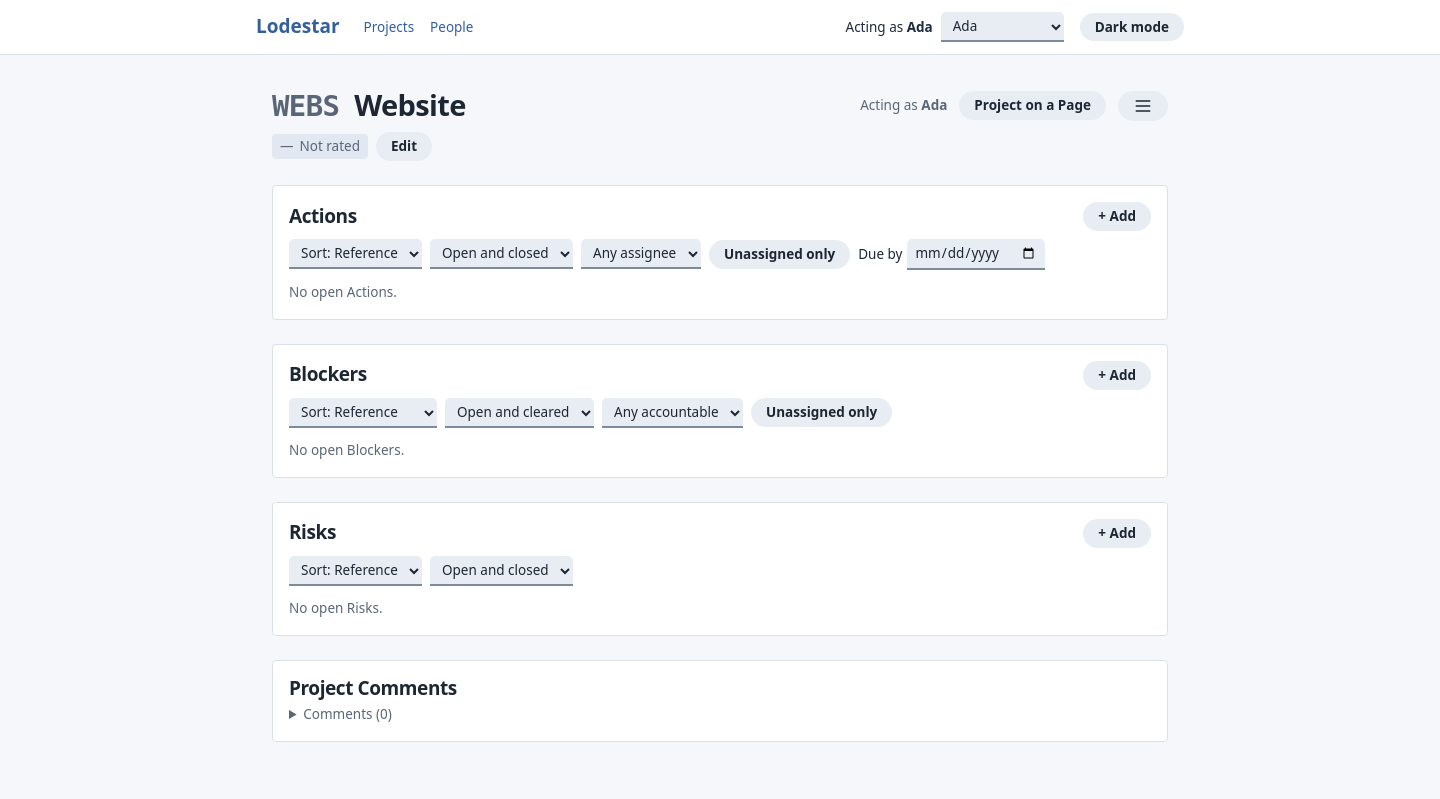
Test: Risks panel › adds a Risk
Click the button with aria-label "Add Risk".
click(1117, 533)  # box [1083,519,1151,548]
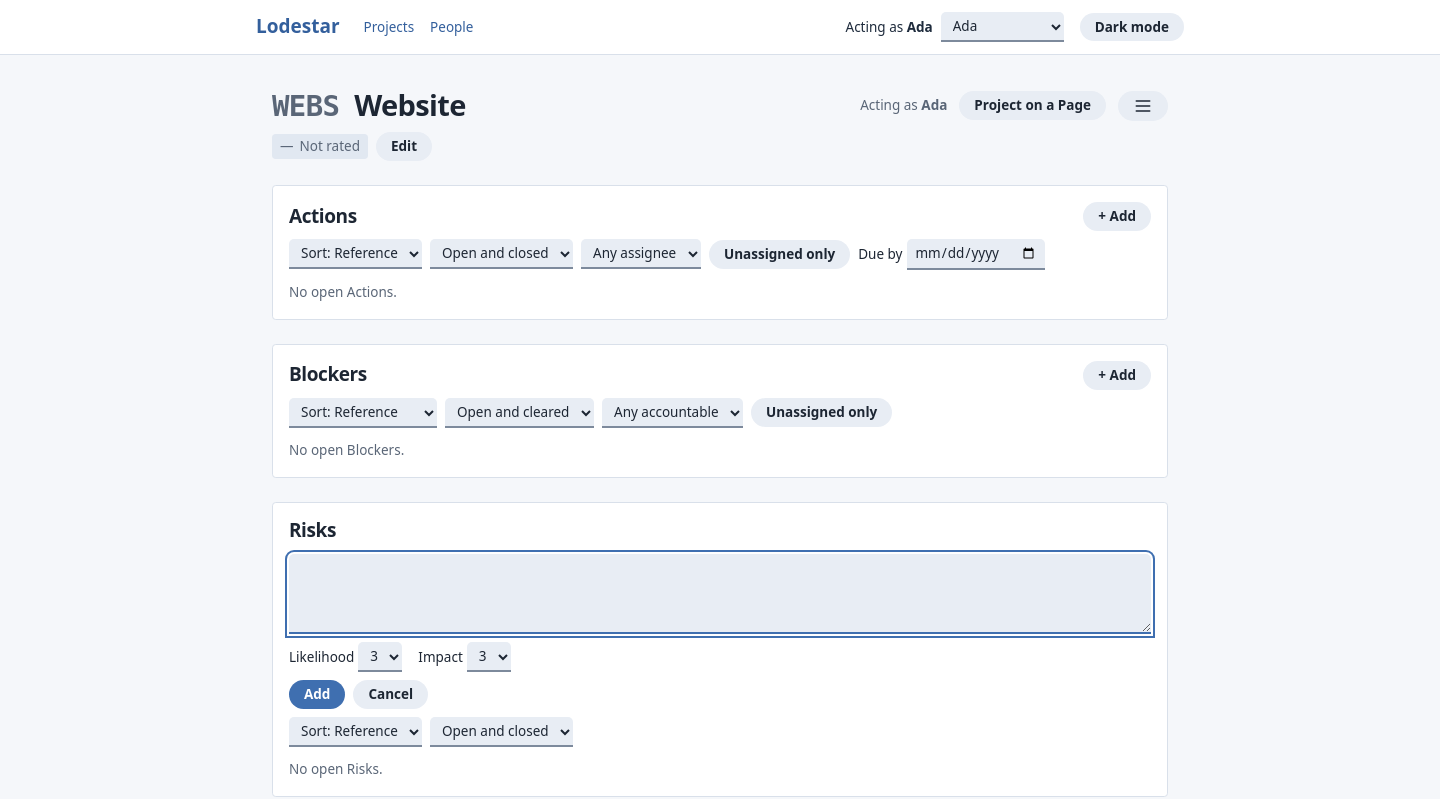
Type "Budget cut" into the text box named "Description".
click(720, 594); type("Budget cut")  # box [289,554,1151,634]
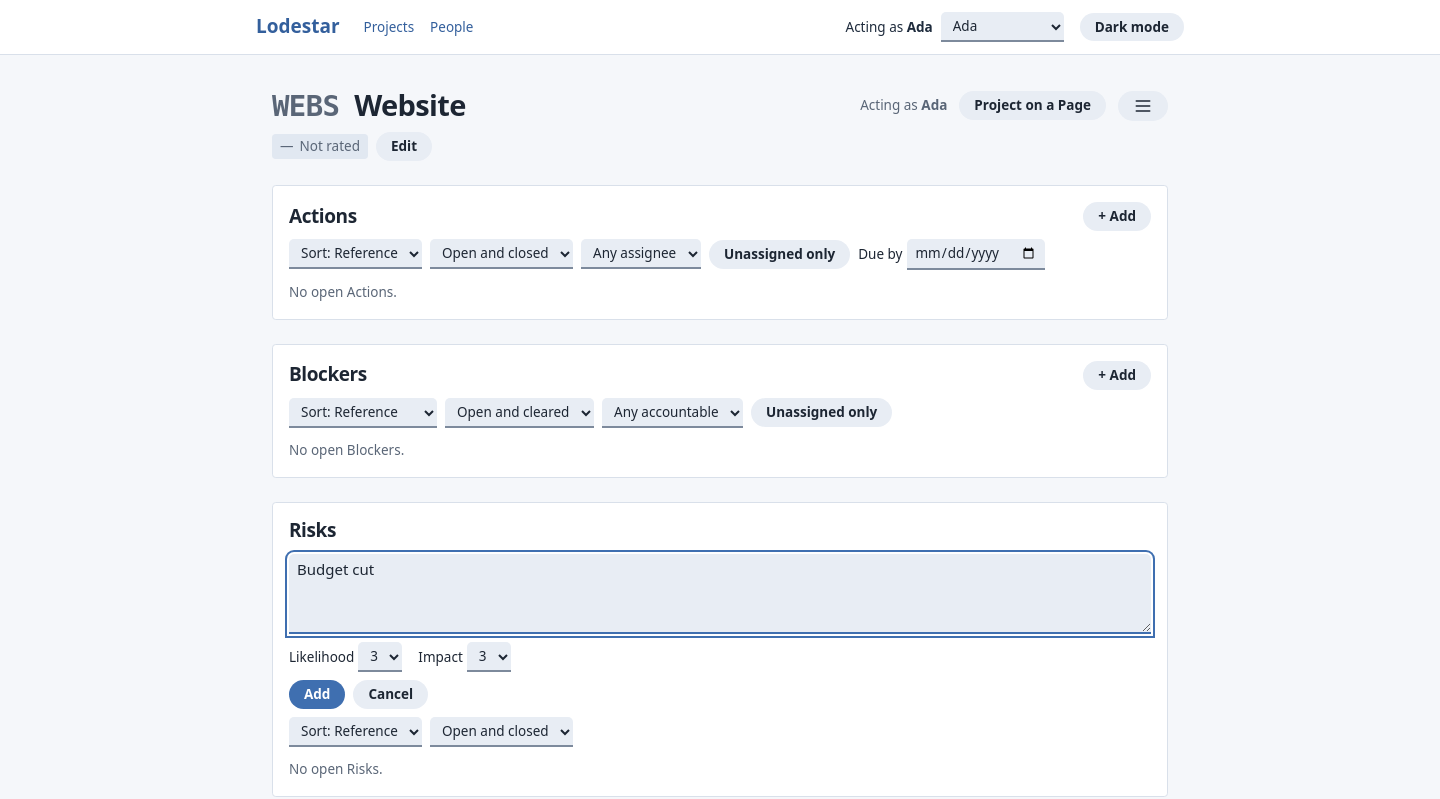
Select "4" in the dropdown labelled "Likelihood" at (380, 657), box [358,642,402,672]
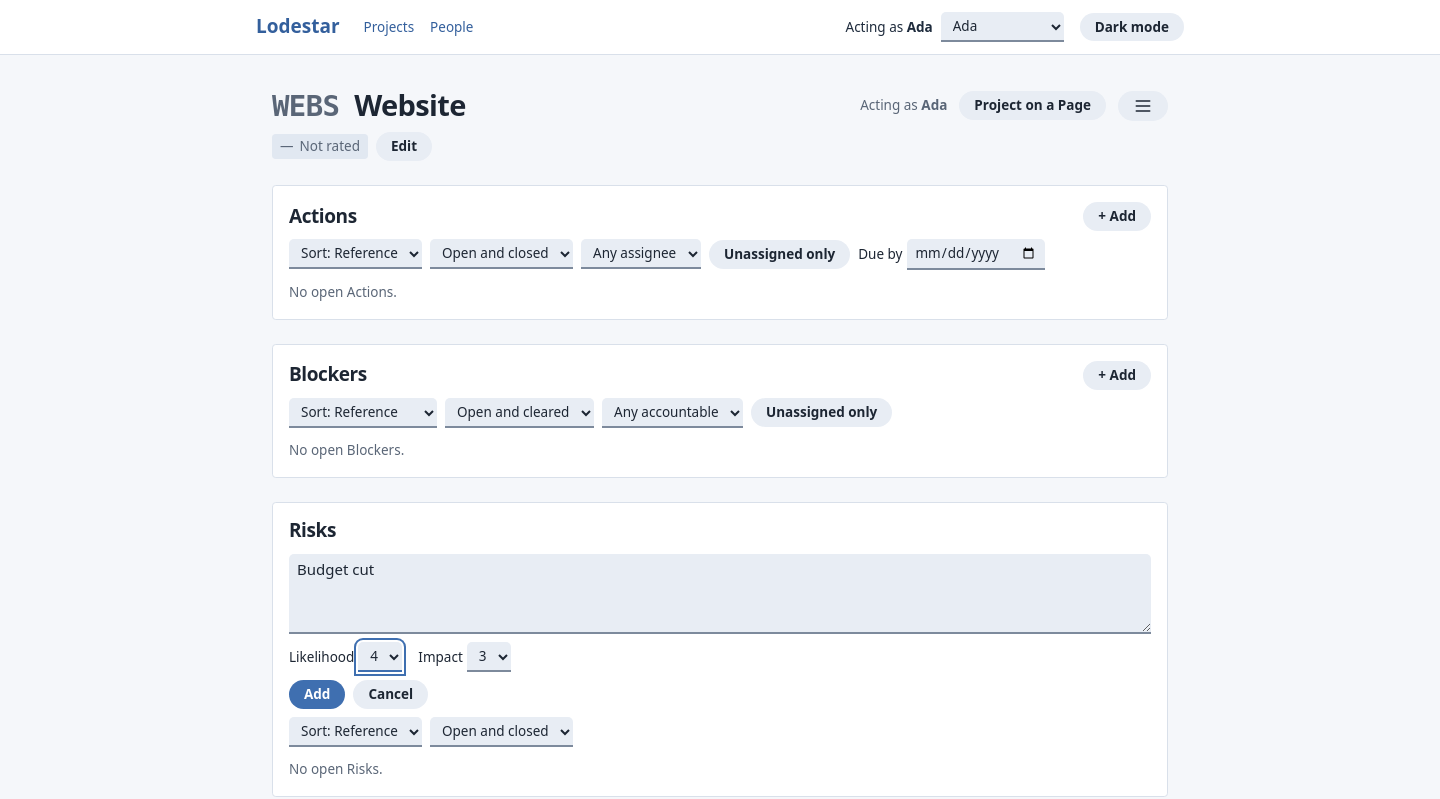
Select "5" in the dropdown labelled "Impact" at (489, 657), box [467,642,511,672]
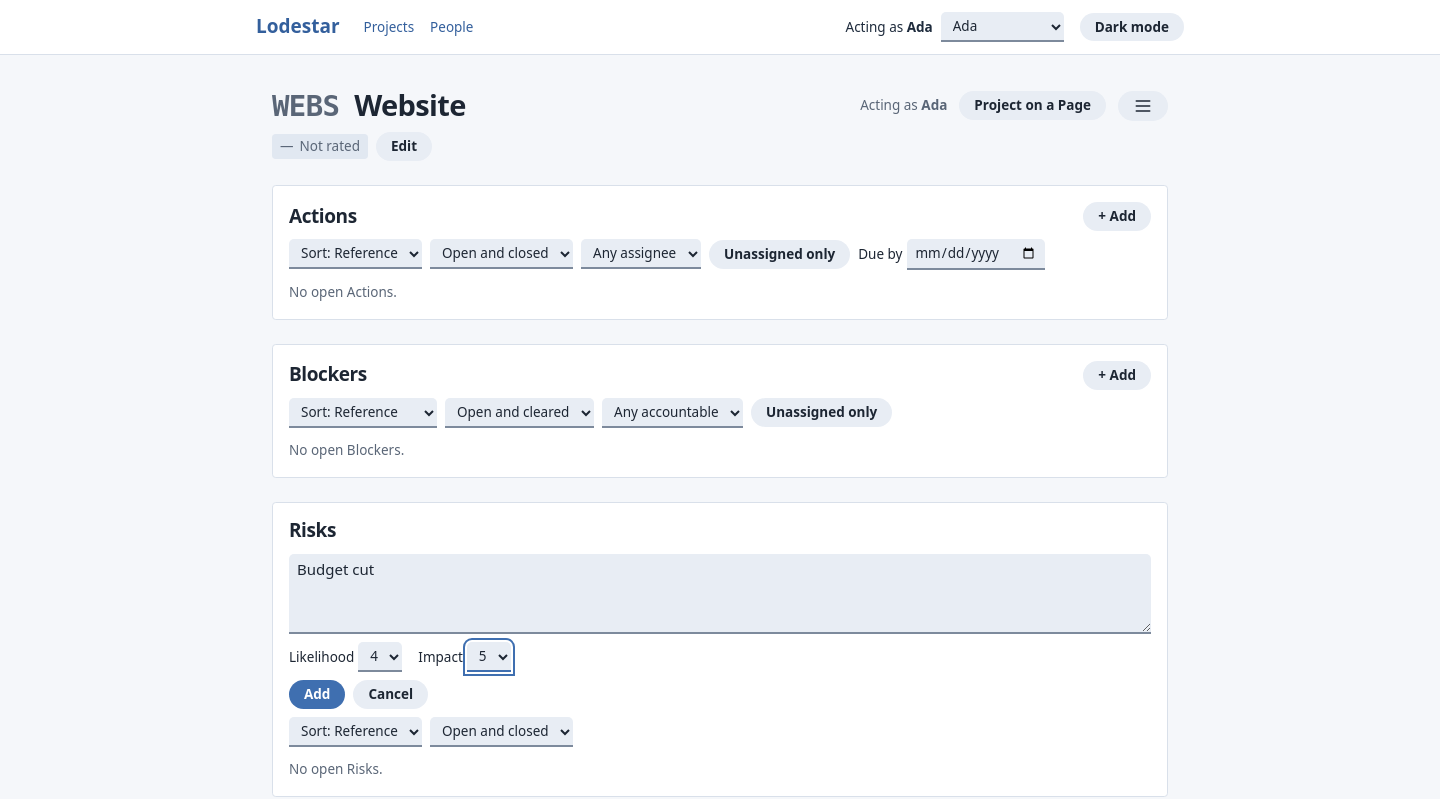
Click the button "Add".
click(317, 695)  # box [289,680,345,709]
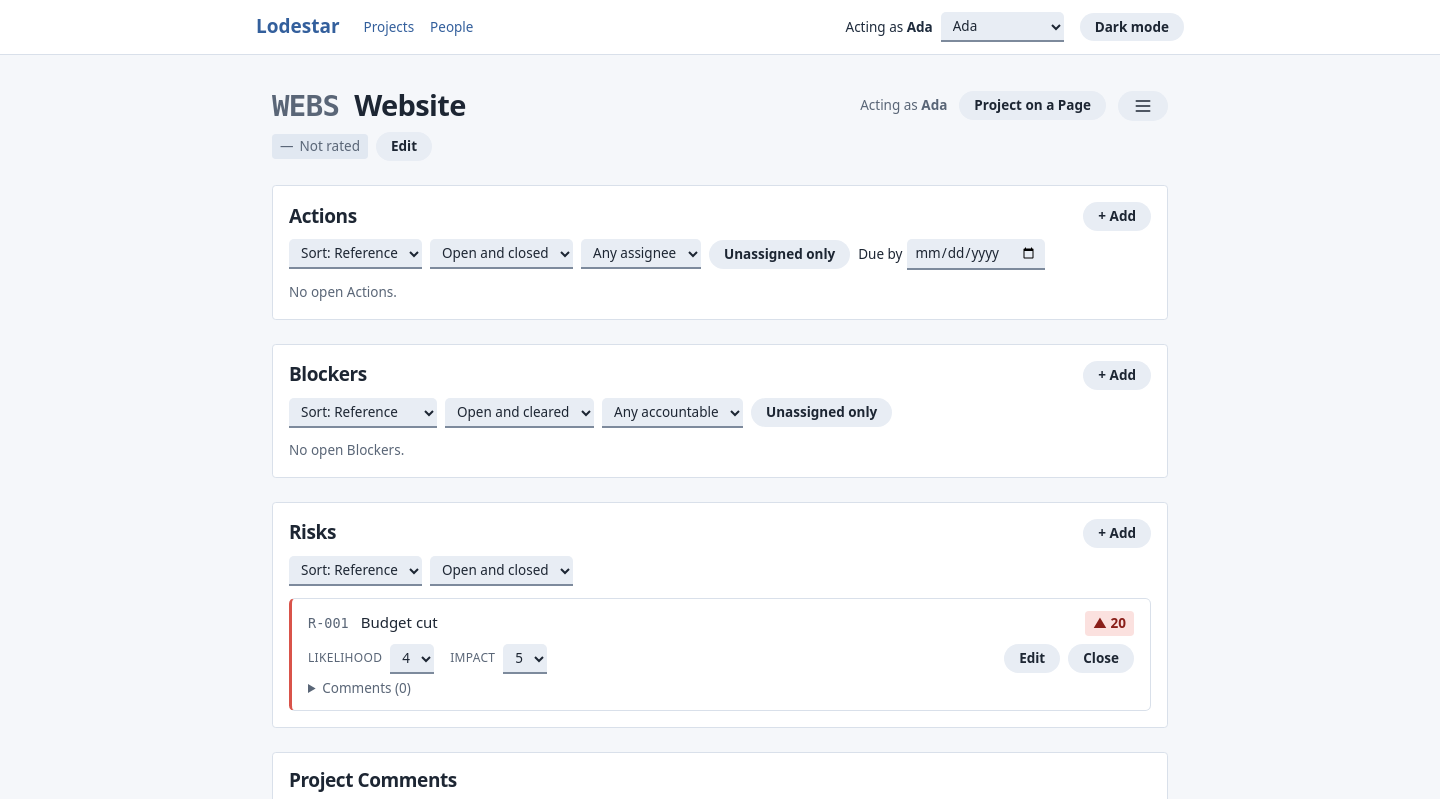
Result: the number of list items is 1 at [289,598,1151,711]
Result: the list item shows "20" at [1107,614,1126,632]
